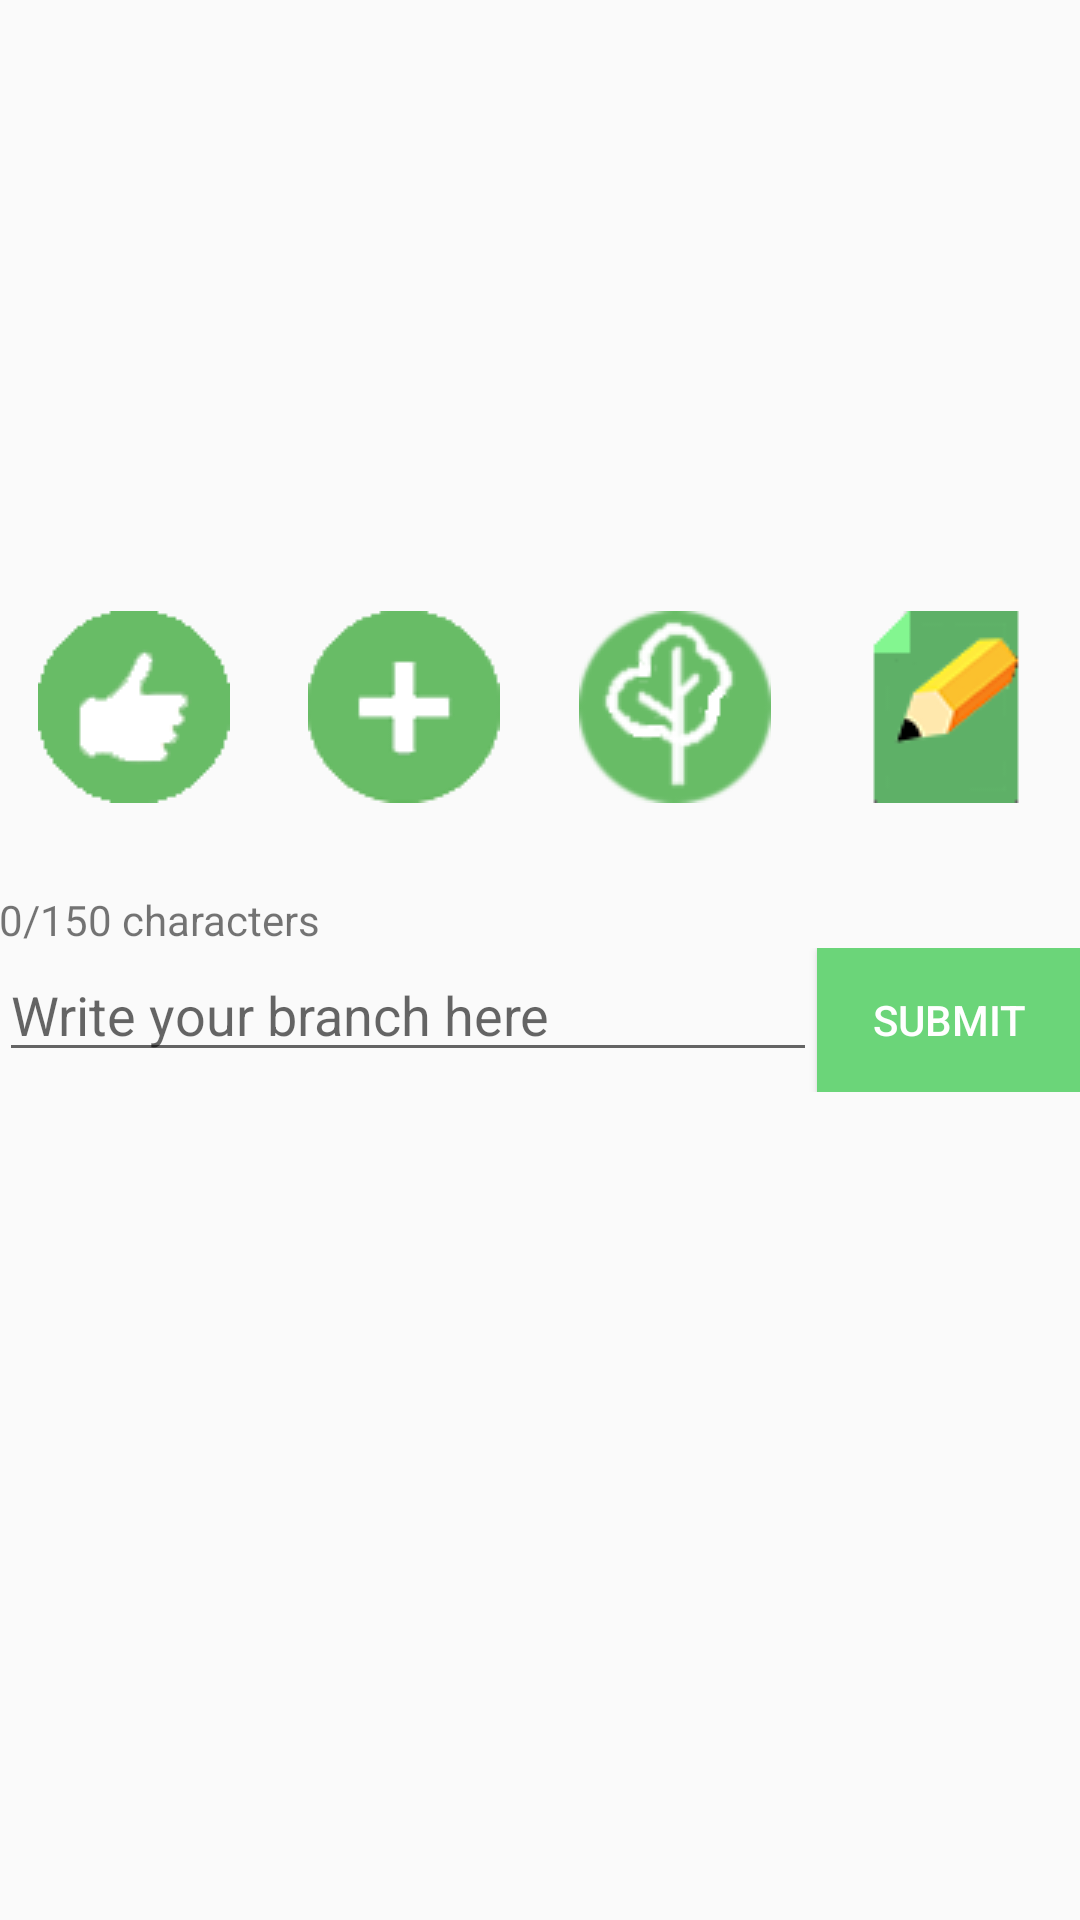

Screen size 1080*1920. Icon name, then its box in pixels as bbox=[x1, y1, x2, y2]:
conscribo create: bbox=[873, 611, 1019, 803]
conscribo like: bbox=[38, 611, 230, 803]
conscribo suscribe: bbox=[308, 611, 500, 803]
conscribo tree: bbox=[579, 611, 771, 803]
